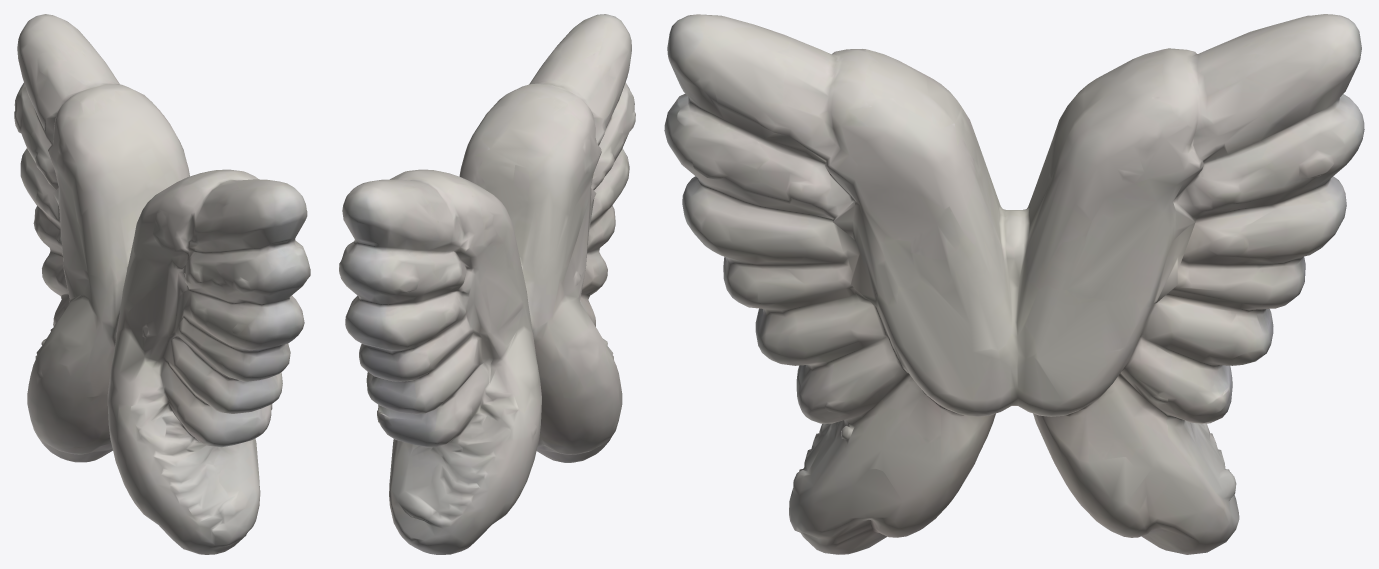
The model's file is wings.glb.
3 renders of one model, left to right at view 1: azimuth 30°, elevation 25°; view 2: azimuth 150°, elevation 25°; view 3: azimuth 270°, elevation 25°, orthographic. The views are drawn at different scales.
Visible parts, largest first — view 1: tripo_node_b20e6d5b-746c-4f53-9585-6ad733b61bbe; view 2: tripo_node_b20e6d5b-746c-4f53-9585-6ad733b61bbe; view 3: tripo_node_b20e6d5b-746c-4f53-9585-6ad733b61bbe.
Part boxes in pixels (box(x1,y1,x2,y2)): tripo_node_b20e6d5b-746c-4f53-9585-6ad733b61bbe: box(14, 14, 310, 554); tripo_node_b20e6d5b-746c-4f53-9585-6ad733b61bbe: box(339, 14, 635, 554); tripo_node_b20e6d5b-746c-4f53-9585-6ad733b61bbe: box(664, 14, 1364, 554).
Size of the model in its own units: 0.324 by 0.8511 by 1.
1 material, 1 textured.
